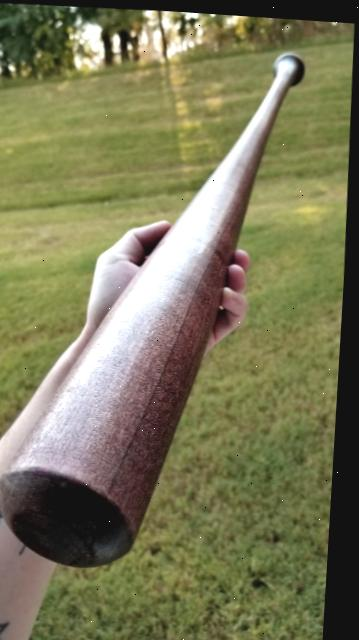baseball bat: (0, 15, 320, 571)
